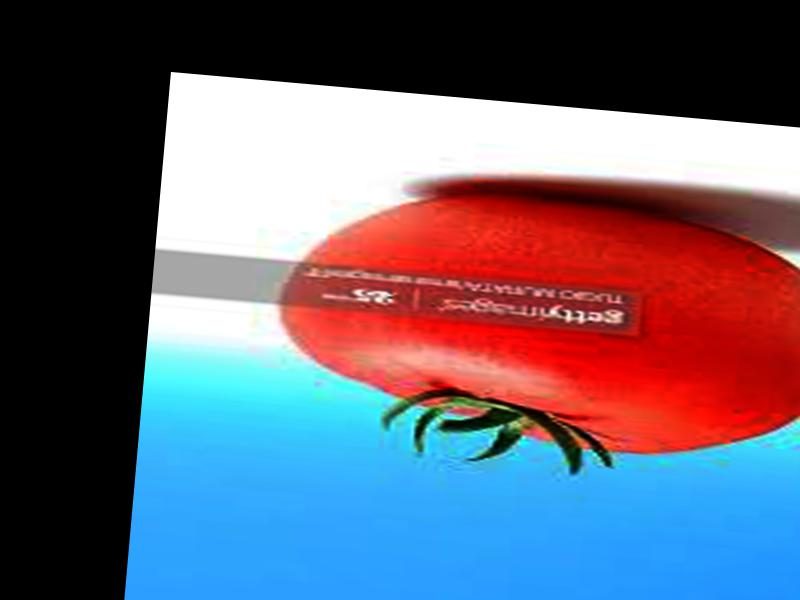Tomato: (266, 177, 800, 470)
